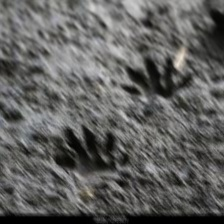raccoon: (50, 119, 137, 188), (117, 52, 194, 107)
